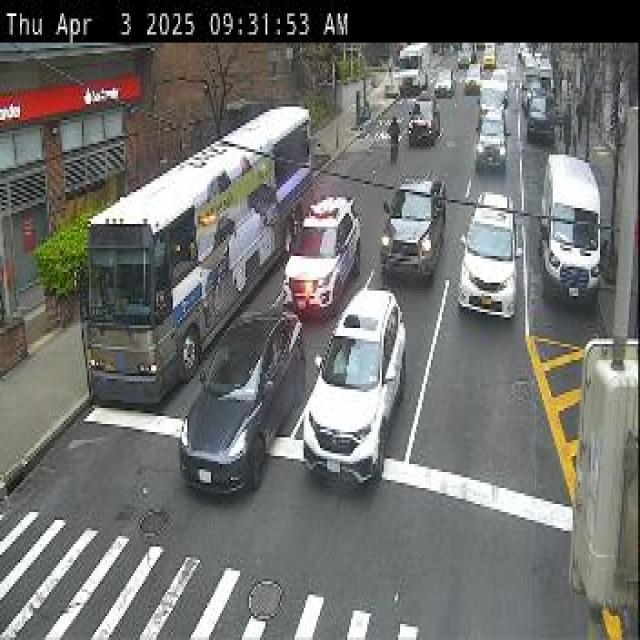open parking: (526, 126, 572, 197)
parkedCars: (518, 49, 604, 341)
